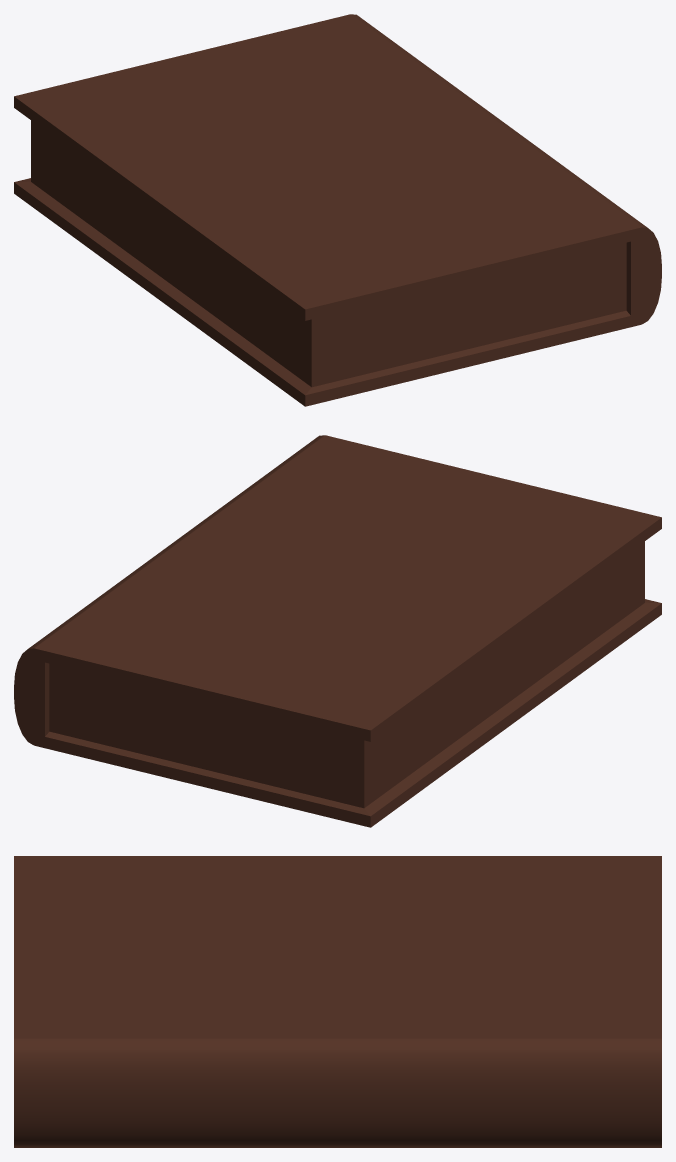
Rendered from Libro 3.fbx.
3 views of the same model, one above another, from view 1: azimuth 30°, elevation 25°; view 2: azimuth 150°, elevation 25°; view 3: azimuth 270°, elevation 25° (orthographic). The views are drawn at different scales.
Parts seen in each view (by area): view 1: Cube.070; view 2: Cube.070; view 3: Cube.070.
Boxes of the visible parts, <box> form: Cube.070: <box>14,14,661,406</box>; Cube.070: <box>14,435,661,827</box>; Cube.070: <box>14,856,661,1147</box>.
Bounding box in the file's own units: 24.79 × 6.46 × 35.04.
